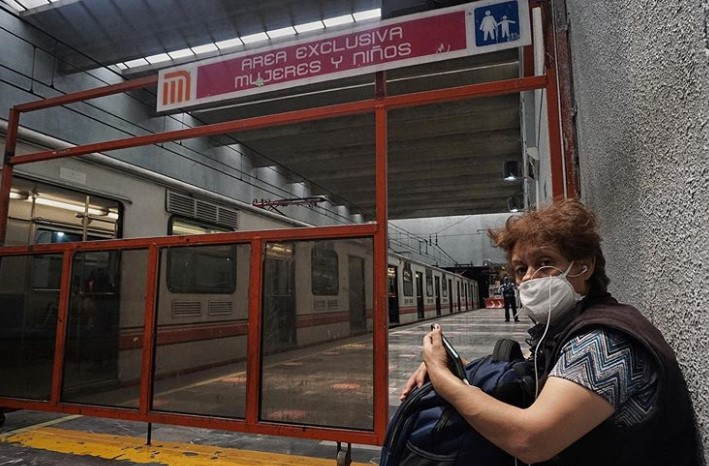face_with_mask: (505, 203, 602, 328)
